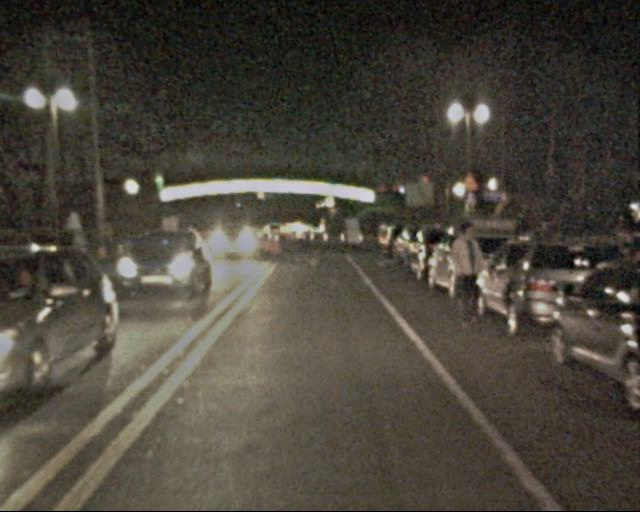person: (444, 224, 487, 330)
